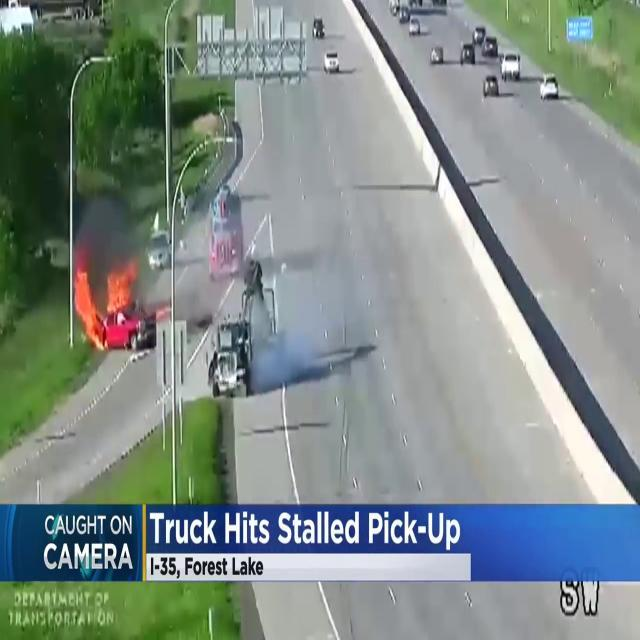Fire: (72, 254, 144, 348)
Smoke: (245, 219, 364, 391), (66, 178, 156, 286)
